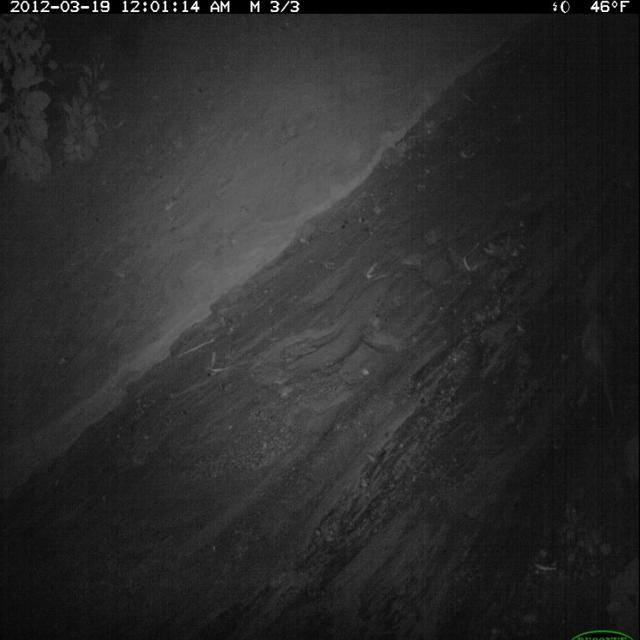cat: (575, 281, 621, 425)
